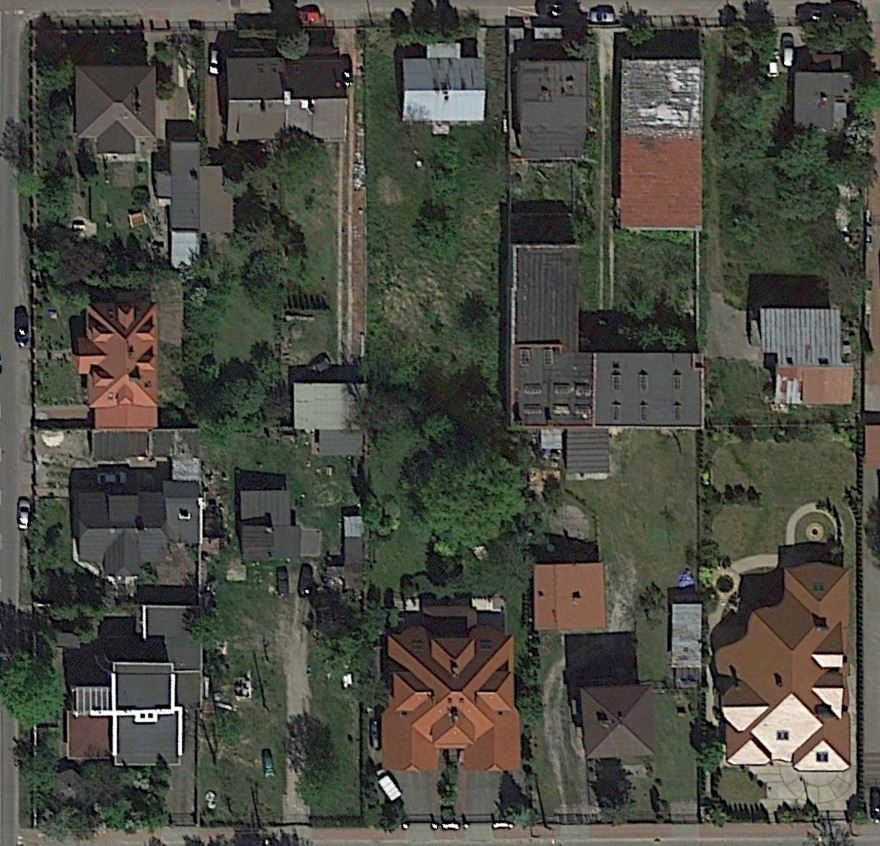family house: (700, 540, 861, 779), (55, 602, 225, 780), (367, 616, 529, 789), (608, 46, 724, 237), (69, 451, 213, 584), (216, 41, 355, 144), (506, 50, 605, 165), (66, 60, 161, 165), (397, 36, 495, 135), (573, 679, 667, 771), (519, 552, 616, 635)
